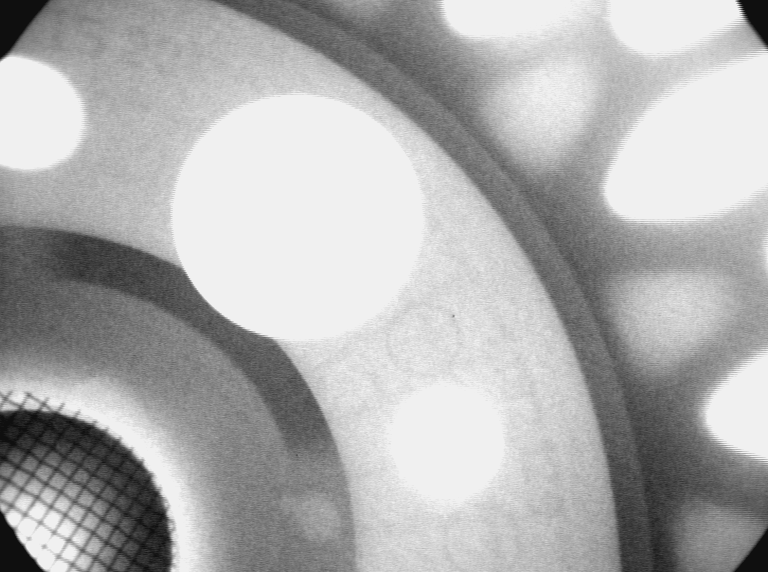defect: (271, 490, 345, 548)
